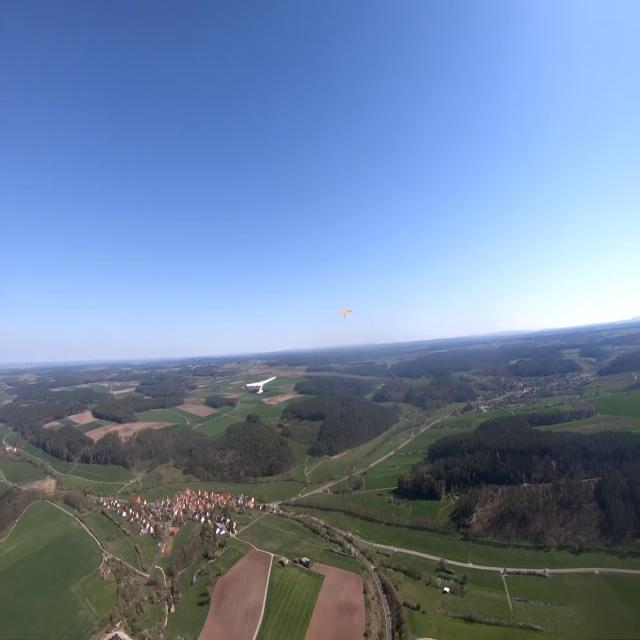iha: (246, 377, 277, 395), (335, 310, 355, 314)
